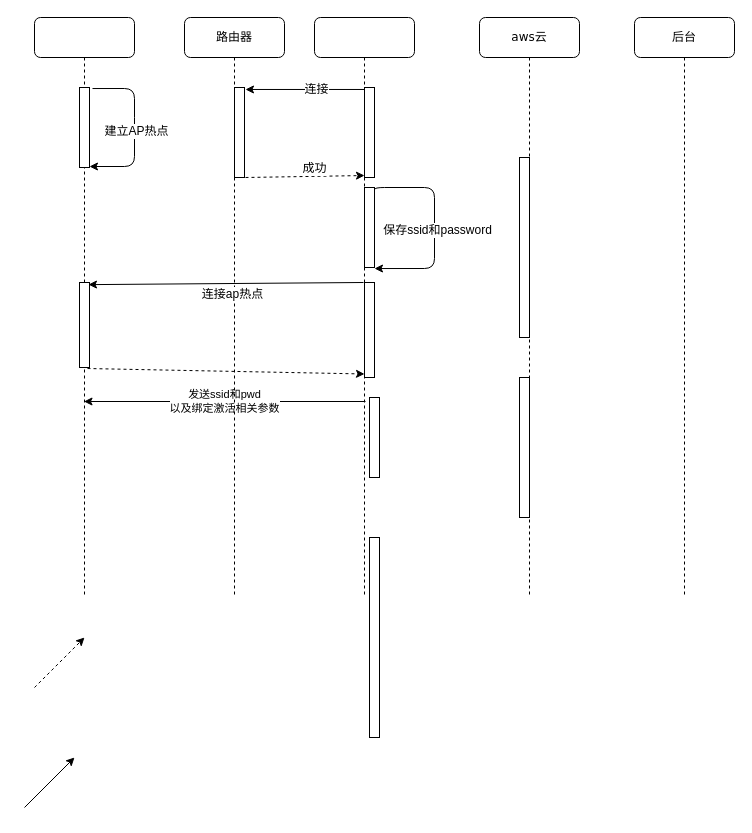
The diagram is 752 pixels wide and 833 high, and some of its shapes have lost their labels. Each missing label, with the centre of its shape:
app端: the point at 364,307
wifi模组: the point at 84,307
